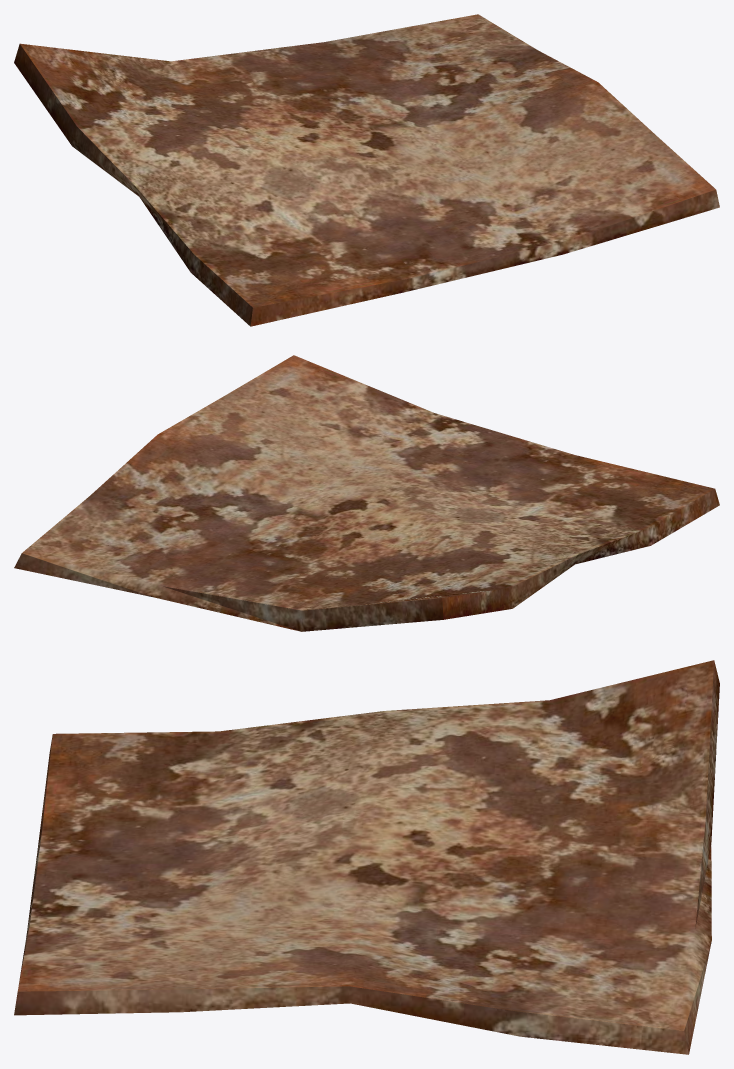
Rendered from junk_scrap_01.glb.
3 views of the same model, one above another, from view 1: azimuth 30°, elevation 25°; view 2: azimuth 150°, elevation 25°; view 3: azimuth 270°, elevation 25° (orthographic). The views are drawn at different scales.
Parts seen in each view (by area): view 1: junk_scrap_01; view 2: junk_scrap_01; view 3: junk_scrap_01.
Part boxes in pixels (box(x1,y1,x2,y2)): junk_scrap_01: box(14, 14, 719, 326); junk_scrap_01: box(14, 355, 719, 631); junk_scrap_01: box(14, 660, 719, 1054).
Size of what is drawn, in the model's own units: 0.6556 by 0.1128 by 0.6493.
1 material, 1 textured.
